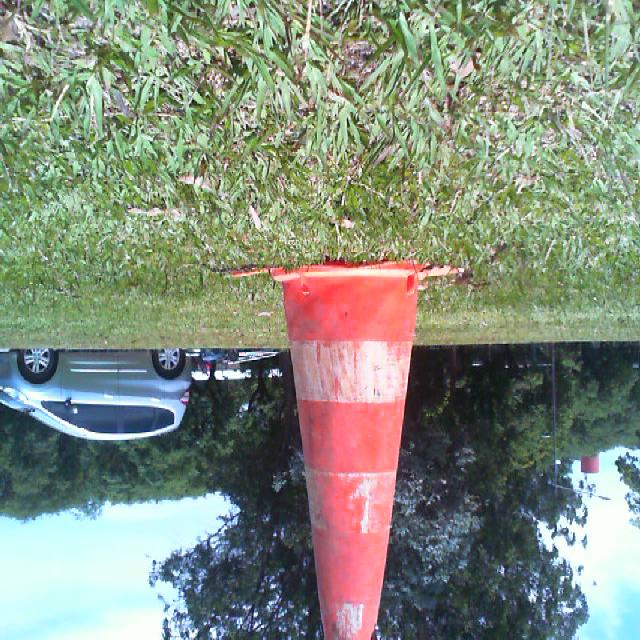cone: (233, 267, 454, 640)
